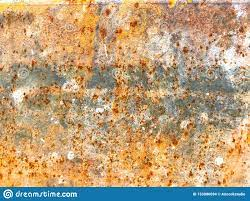rust: (2, 7, 247, 76), (2, 131, 249, 187), (101, 67, 132, 137), (24, 81, 88, 111), (133, 77, 196, 105)
